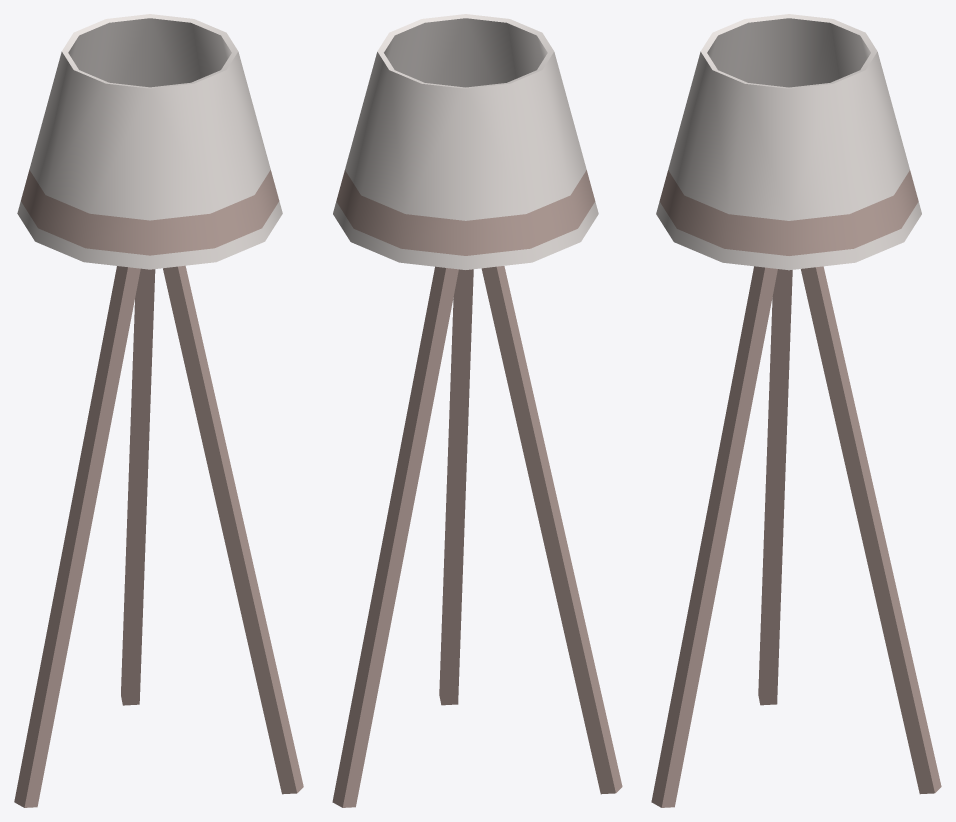
File: SM_lamp_002.FBX
3 renders of one model, left to right at view 1: azimuth 30°, elevation 25°; view 2: azimuth 150°, elevation 25°; view 3: azimuth 270°, elevation 25°, orthographic.
Visible parts, largest first — view 1: SM_lamp_002; view 2: SM_lamp_002; view 3: SM_lamp_002.
Boxes of the visible parts, <box> form: SM_lamp_002: <box>14,14,303,807</box>; SM_lamp_002: <box>332,14,622,807</box>; SM_lamp_002: <box>651,14,941,807</box>.
Size of the model in its own units: 69.96 by 68.04 by 185.
